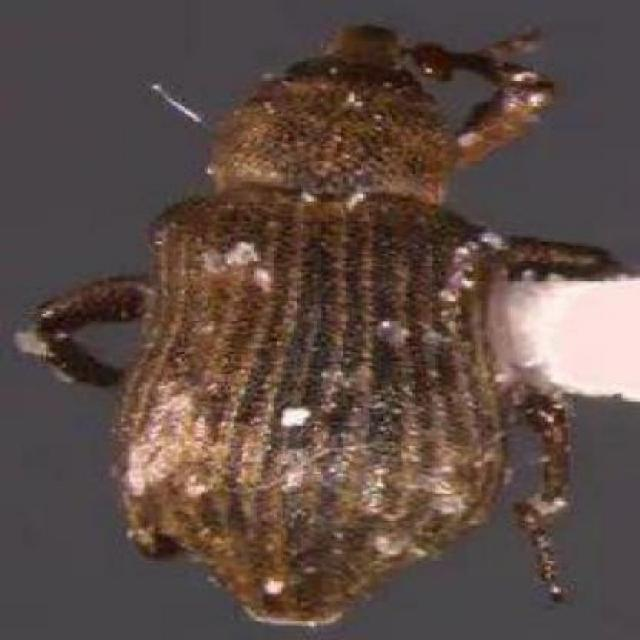rice-bug: (30, 24, 625, 626)
